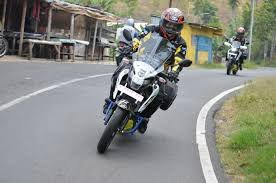motor: (97, 44, 166, 158), (219, 37, 248, 75)
